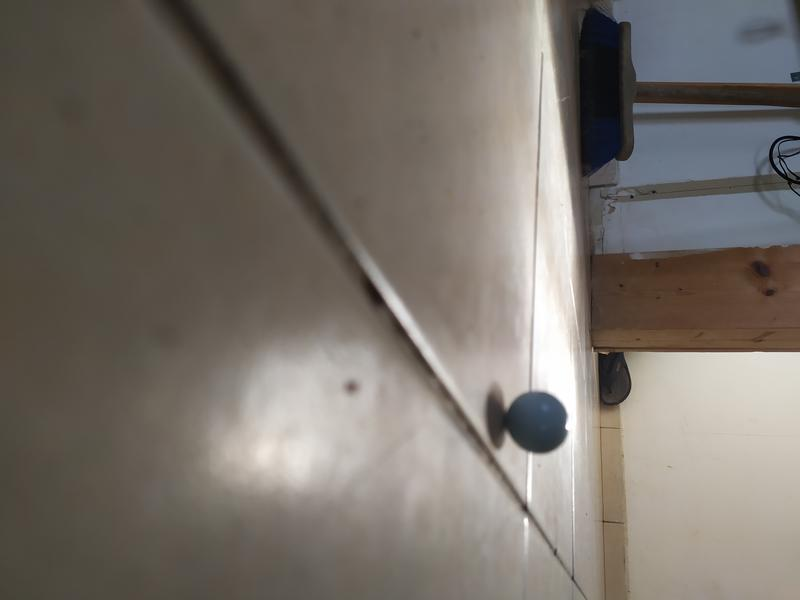Warning: (500, 386, 575, 457)
